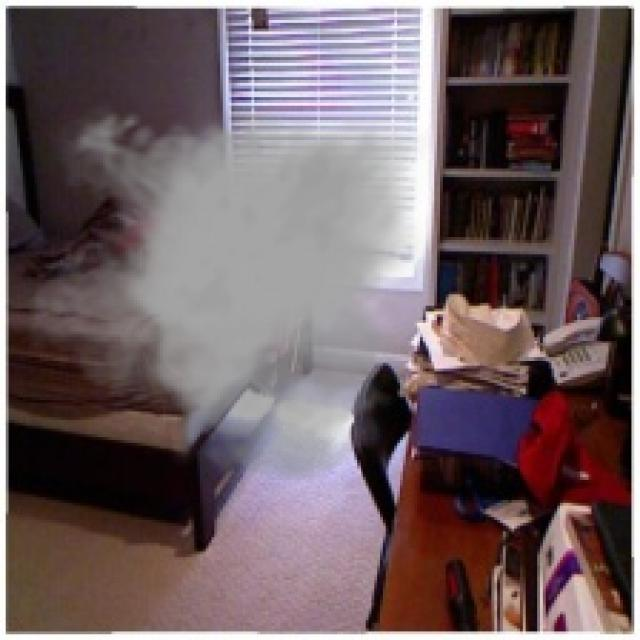smoke: (29, 100, 432, 486)
